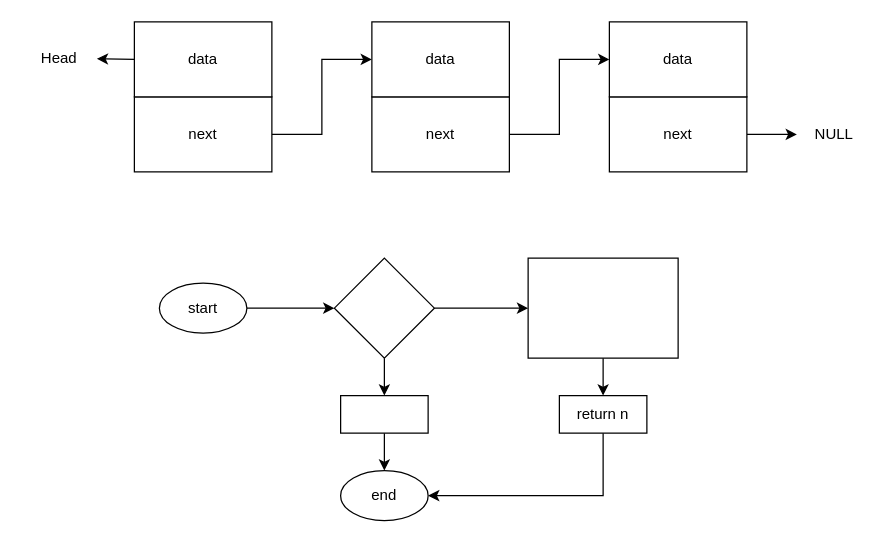
Some shapes in this 893 by 543 pixel diagram are drawn without their labels. Here are the shapes that lost their labels. From the top down, the centre of each, then its label:
At point (383, 307): "head == null".
At point (602, 307): "temp = head n = head->n head = head->next free temp".
At point (383, 413): "return 0".
